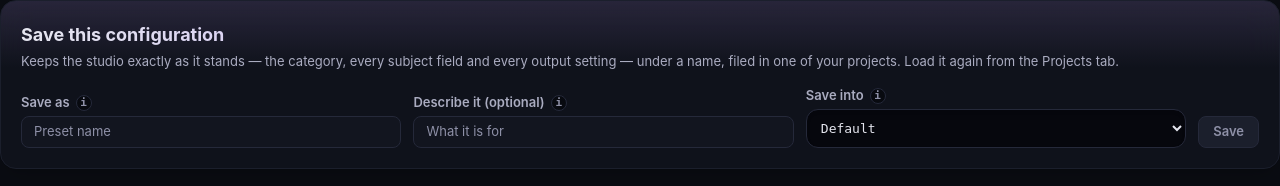
Test case: PresetSavePanel › shows the description of the preset it is about to update
expect the field labelled "Describe it (optional)" is empty: met, box [413,116,794,148]
Type "my knight" into the field labelled "Save as" at (211, 132), box [21,116,401,148]
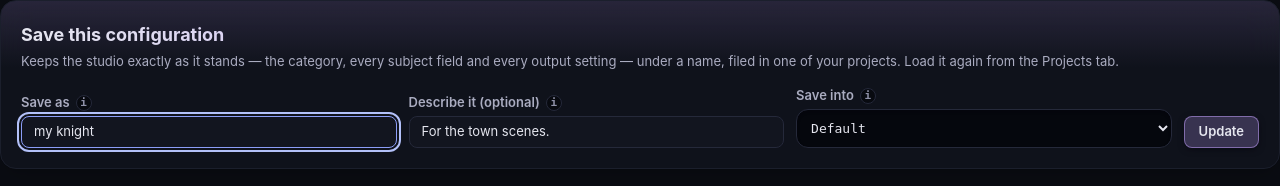
expect the button "Update" is shown: met, box [1184,116,1259,148]
expect the field labelled "Describe it (optional)" holds "For the town scenes.": met, box [408,116,784,148]
